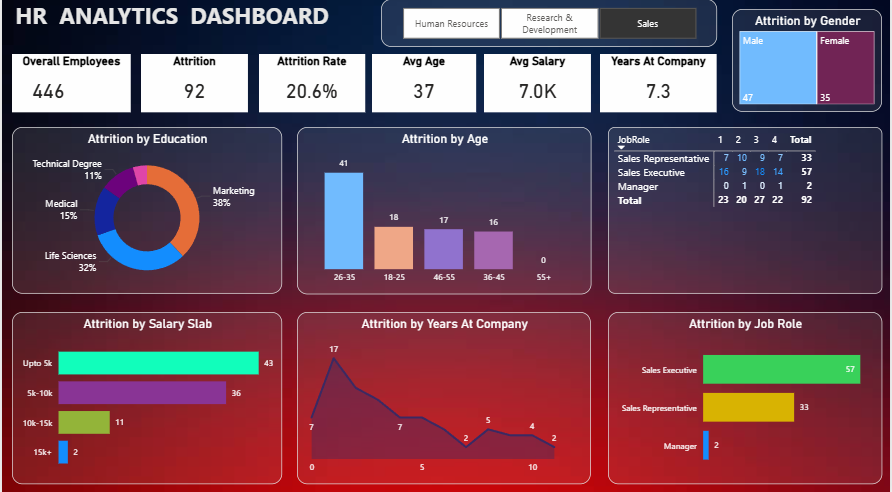

Layout of this report page (visuals, bound fields, positions):
{"tool":"powerbi","page":{"name":"Page 1","canvas":[1280,720],"ordinal":0},"visuals":[{"type":"cardVisual","title":"Overall Employees","fields":{"Data":["CountNonNull(HR_Analytics.EmpID)"]},"box":[14.4,83.5,171.4,83.5],"z":0},{"type":"cardVisual","title":"Attrition","fields":{"Data":["Sum(HR_Analytics.AttritionCount)"]},"box":[200.2,83.5,154.1,83.5],"z":1000},{"type":"cardVisual","title":"Attrition Rate","fields":{"Data":["HR_Analytics.AttritionRate"]},"box":[370.1,83.5,152.6,83.5],"z":2000},{"type":"cardVisual","title":"Avg Age","fields":{"Data":["Avg(HR_Analytics.Age)"]},"box":[532.8,83.5,149.8,83.5],"z":3000},{"type":"cardVisual","title":"Avg Salary","fields":{"Data":["Avg(HR_Analytics.MonthlyIncome)"]},"box":[694.1,83.5,154.1,83.5],"z":4000},{"type":"cardVisual","title":"Years At Company","fields":{"Data":["Avg(HR_Analytics.YearsAtCompany)"]},"box":[861.1,83.5,168.5,83.5],"z":5000},{"type":"donutChart","title":" Attrition by Education","fields":{"Category":["HR_Analytics.EducationField"],"Y":["Sum(HR_Analytics.AttritionCount)"]},"box":[14.4,188.6,388.8,240.5],"z":6000},{"type":"areaChart","title":" Attrition by Years At Company","fields":{"Category":["HR_Analytics.YearsAtCompany"],"Y":["Sum(HR_Analytics.AttritionCount)"]},"box":[424.8,455,423.4,247.7],"z":7000},{"type":"pivotTable","fields":{"Rows":["HR_Analytics.JobRole"],"Columns":["HR_Analytics.JobSatisfaction"],"Values":["Sum(HR_Analytics.AttritionCount)"]},"box":[872.6,188.6,394.6,240.5],"z":8000},{"type":"barChart","title":" Attrition by Salary Slab","fields":{"Category":["HR_Analytics.SalarySlab"],"Y":["Sum(HR_Analytics.AttritionCount)"]},"box":[14.4,455,388.8,247.7],"z":9000},{"type":"barChart","title":" Attrition by Job Role","fields":{"Y":["Sum(HR_Analytics.AttritionCount)"],"Category":["HR_Analytics.JobRole"]},"box":[872.6,455,394.6,247.7],"z":10000},{"type":"columnChart","title":" Attrition by Age","fields":{"Category":["HR_Analytics.AgeGroup"],"Y":["Sum(HR_Analytics.AttritionCount)"]},"box":[424.3,188.3,424.3,240.7],"z":11000},{"type":"treemap","title":" Attrition by Gender","fields":{"Group":["HR_Analytics.Gender"],"Values":["Sum(HR_Analytics.AttritionCount)"]},"box":[1051.2,18.7,216,148.3],"z":12000},{"type":"slicer","fields":{"Values":["HR_Analytics.Department"]},"box":[545.8,4.3,483.8,69.1],"z":13000},{"type":"textbox","box":[14.3,0,498.2,73.9],"z":14000}]}

Visuals, with their boxes in screenshot pixels (x1, y1, x2, y2), scaled from the page's 1280x720 canvas onto the 892x492 screenshot:
"Overall Employees" cardVisual: bbox(10, 57, 129, 114)
"Attrition" cardVisual: bbox(140, 57, 247, 114)
"Attrition Rate" cardVisual: bbox(258, 57, 364, 114)
"Avg Age" cardVisual: bbox(371, 57, 476, 114)
"Avg Salary" cardVisual: bbox(484, 57, 591, 114)
"Years At Company" cardVisual: bbox(600, 57, 718, 114)
" Attrition by Education" donutChart: bbox(10, 129, 281, 293)
" Attrition by Years At Company" areaChart: bbox(296, 311, 591, 480)
pivotTable - HR_Analytics.JobRole x HR_Analytics.JobSatisfaction: bbox(608, 129, 883, 293)
" Attrition by Salary Slab" barChart: bbox(10, 311, 281, 480)
" Attrition by Job Role" barChart: bbox(608, 311, 883, 480)
" Attrition by Age" columnChart: bbox(296, 129, 591, 293)
" Attrition by Gender" treemap: bbox(733, 13, 883, 114)
slicer - HR_Analytics.Department: bbox(380, 3, 718, 50)
textbox: bbox(10, 0, 357, 50)
